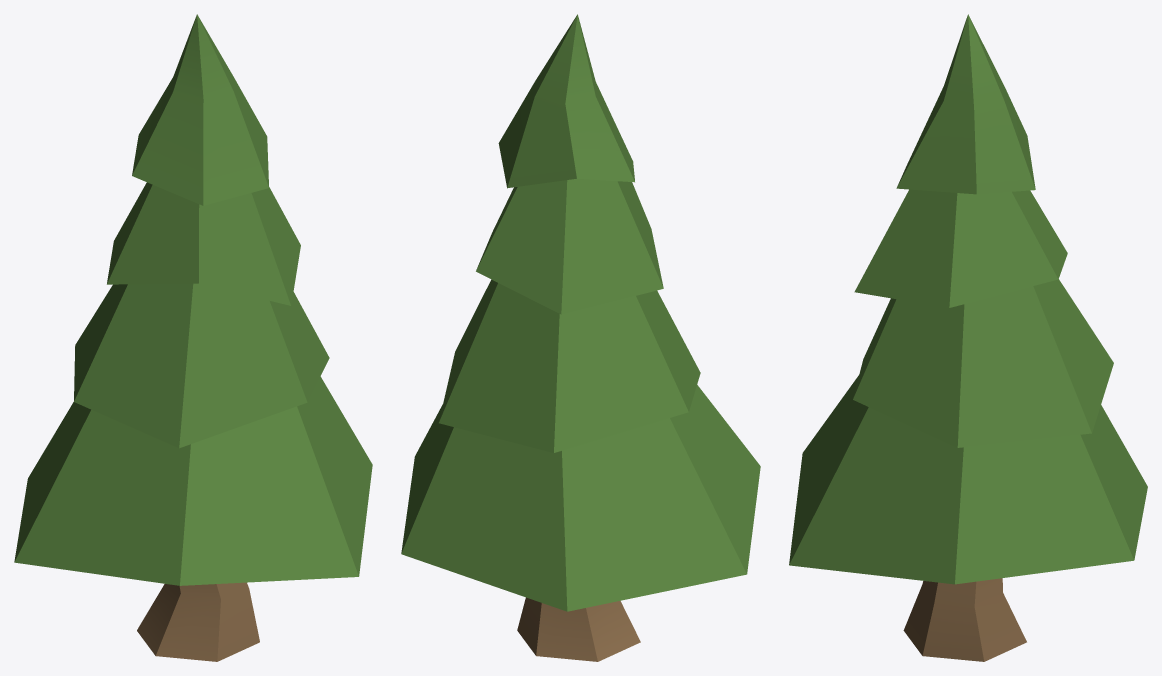
Rendered from pine_small_3.fbx.
3 views of the same model, side by side, from view 1: azimuth 30°, elevation 25°; view 2: azimuth 150°, elevation 25°; view 3: azimuth 270°, elevation 25° (orthographic).
Visible parts, largest first — view 1: pine_small_3; view 2: pine_small_3; view 3: pine_small_3.
Part boxes in pixels (bbox=[...]): pine_small_3: bbox=[14, 14, 372, 661]; pine_small_3: bbox=[401, 14, 760, 661]; pine_small_3: bbox=[789, 14, 1147, 661].
Bounding box in the file's own units: 139 × 240 × 125.
Materials: 1 (1 with a texture image).
